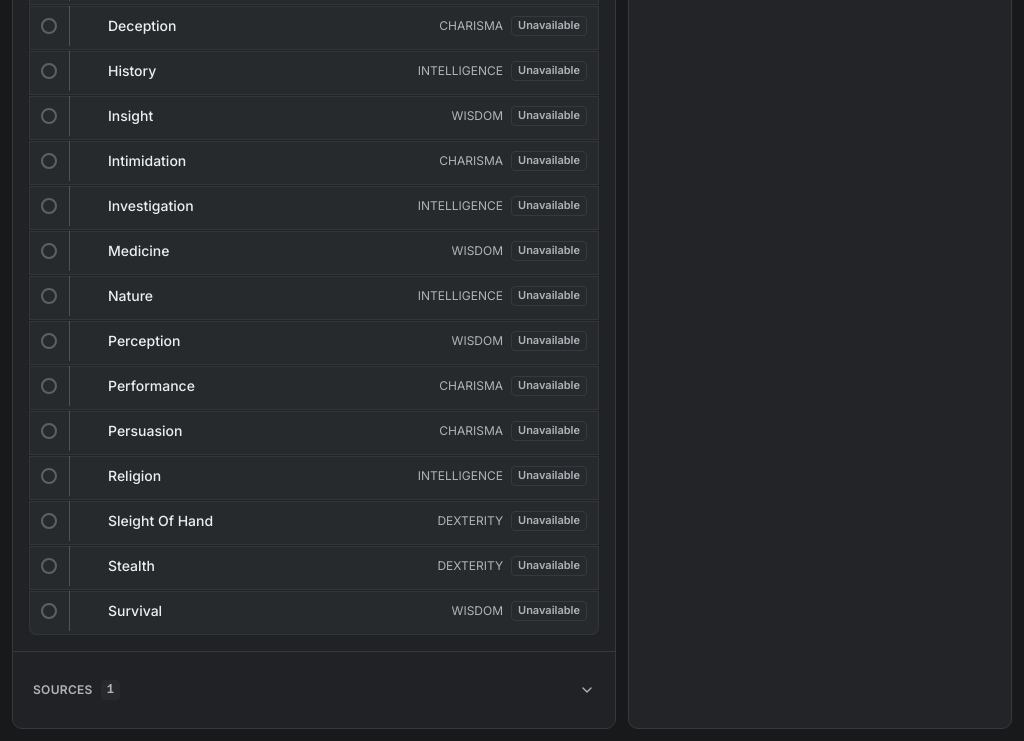
it: Proficiencies Sources shows the complete conditional rule without filled Expertise circles and respects suppression
(page scrolled)
Click the button "Sources 1": (63, 690) left=29, top=668, right=599, bottom=712
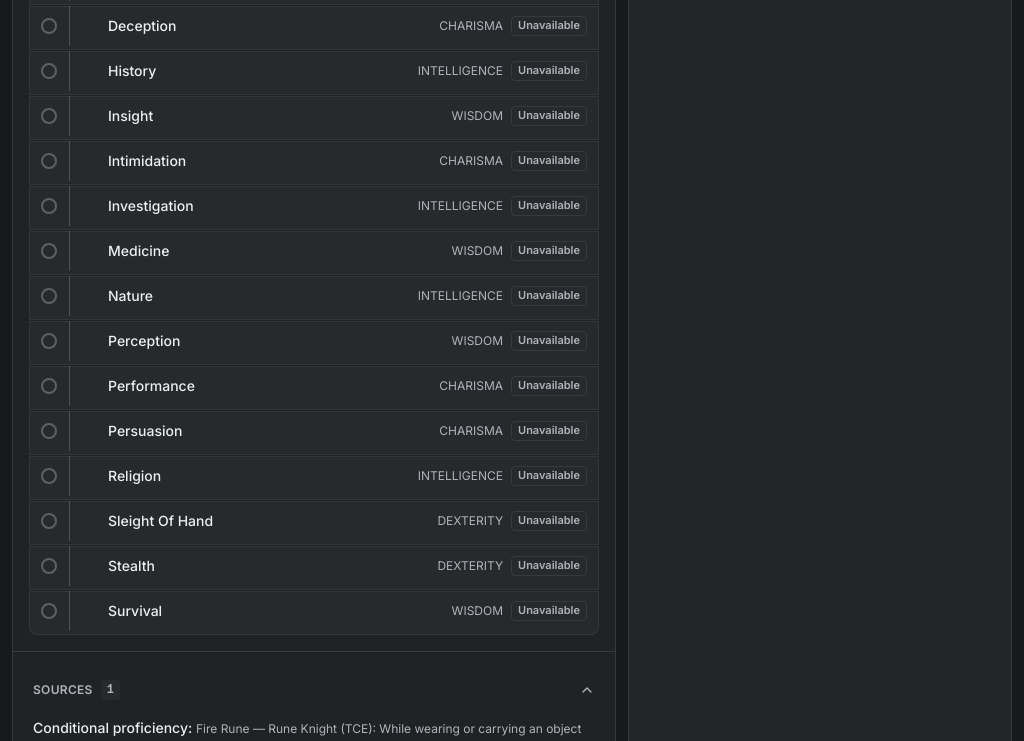
expect the text "Conditional proficiency:" is shown: met, box left=33, top=719, right=196, bottom=736
